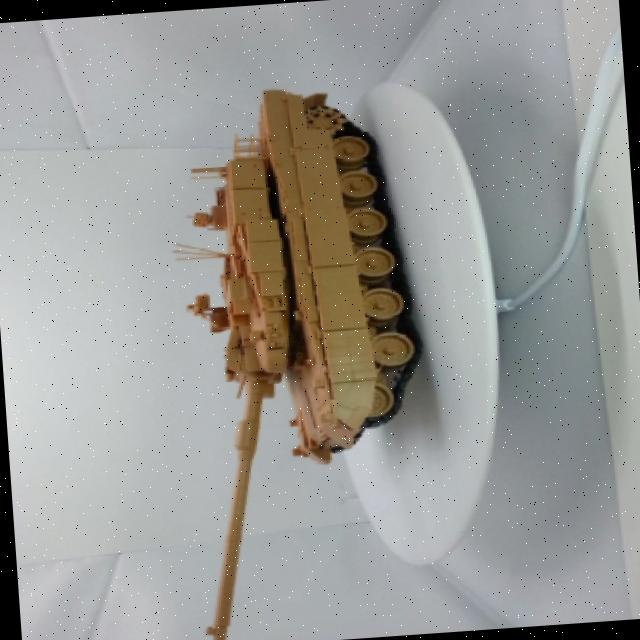korea tank: (150, 50, 452, 640)
